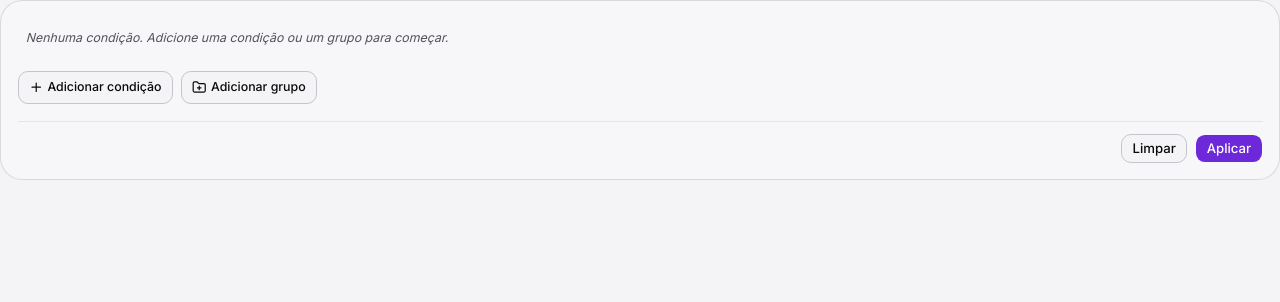
Test: ConditionalFilters v0.32 › Adicionar grupo cria sub-grupo aninhado
The image size is (1280, 302).
Click the button "Adicionar grupo".
click(249, 88)  # box [181,71,317,104]
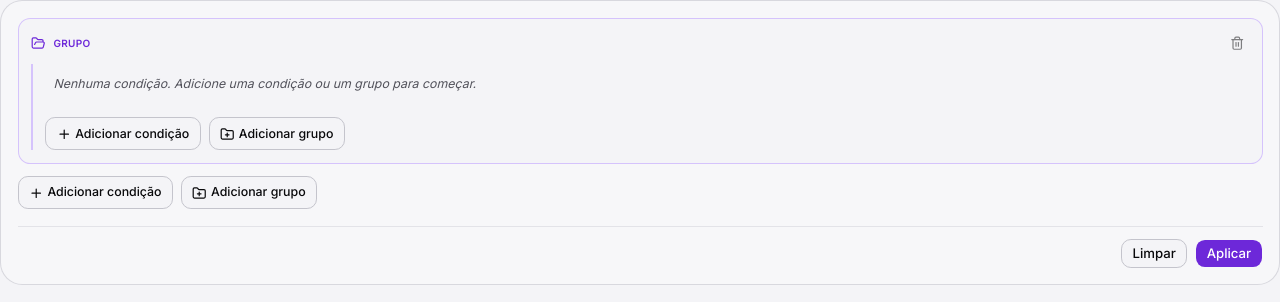
Expected: the text "Grupo" is shown, [54,36,90,51]
